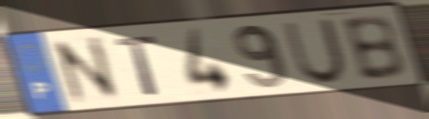4: (184, 25, 234, 97)
9: (232, 23, 290, 91)
B: (338, 13, 409, 84)
N: (48, 33, 125, 108)
T: (113, 33, 162, 98)
U: (281, 16, 350, 87)
